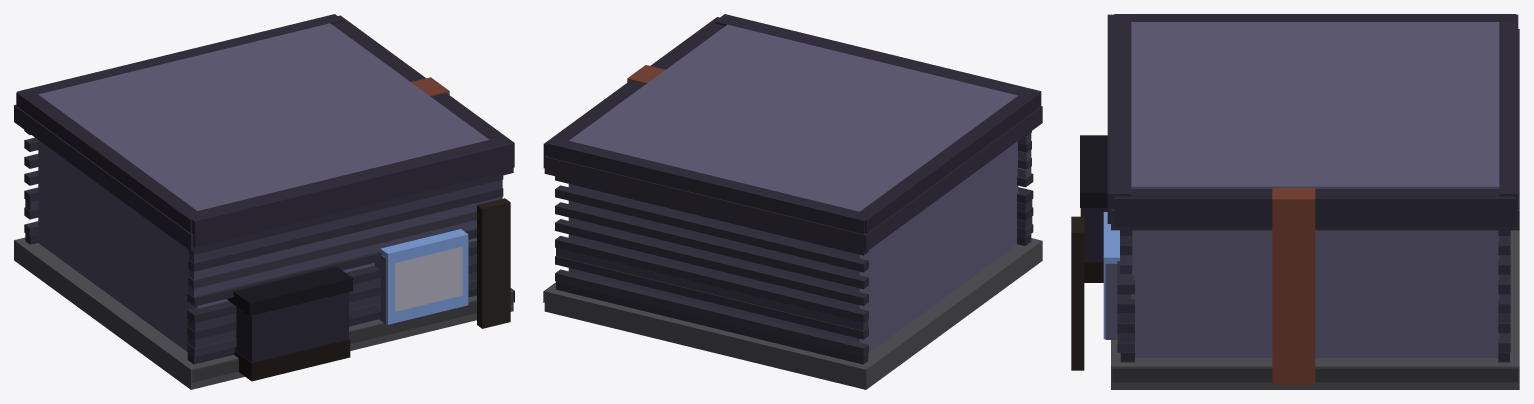
File: CursedTVSil.fbx
3 views of the same model, side by side, from view 1: azimuth 30°, elevation 25°; view 2: azimuth 150°, elevation 25°; view 3: azimuth 270°, elevation 25° (orthographic). The views are drawn at different scales.
Visible parts, largest first — view 1: CT_S_All; view 2: CT_S_All; view 3: CT_S_All.
Boxes of the visible parts, left/top/right/bottom form: CT_S_All: left=14, top=14, right=514, bottom=389; CT_S_All: left=543, top=14, right=1042, bottom=389; CT_S_All: left=1071, top=14, right=1519, bottom=389.
Size of the model in its own units: 40.74 by 20 by 41.74.
